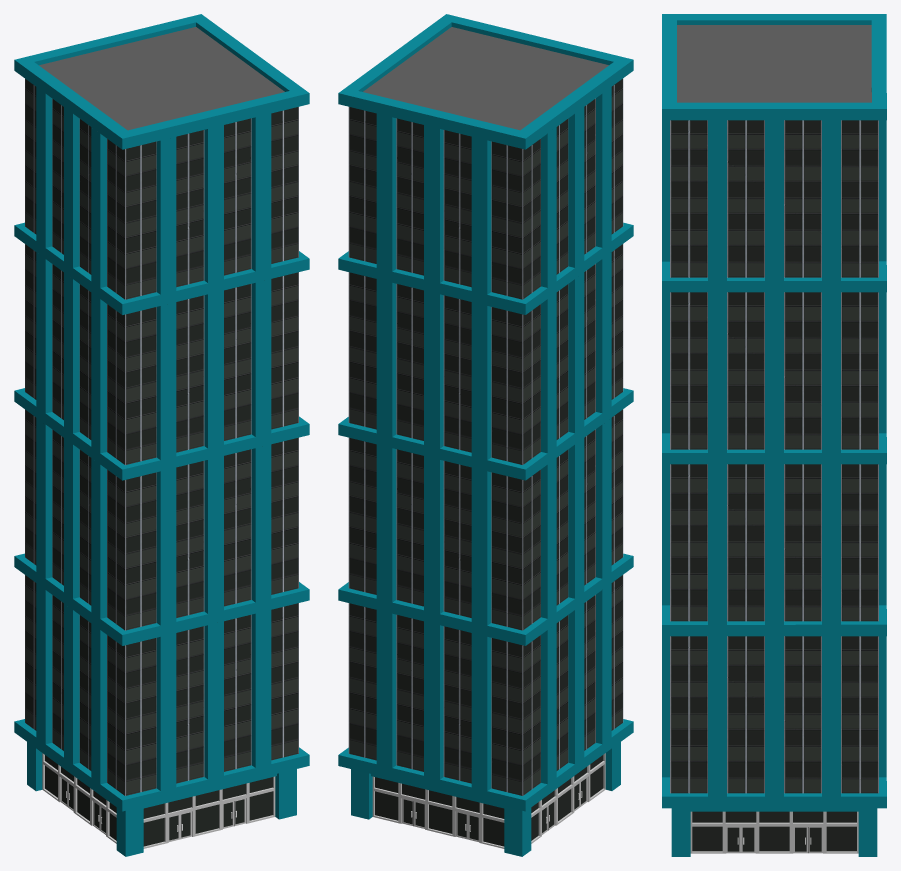
3 renders of one model, left to right at view 1: azimuth 30°, elevation 25°; view 2: azimuth 150°, elevation 25°; view 3: azimuth 270°, elevation 25°, orthographic. The views are drawn at different scales.
Parts seen in each view (by area): view 1: EC-04; view 2: EC-04; view 3: EC-04.
Part boxes in pixels (x1,y1,x2,y2): EC-04: (14,14,309,856); EC-04: (338,14,633,856); EC-04: (662,14,886,856).
Size of what is drawn, in the model's own units: 17.76 by 65.6 by 17.77.
